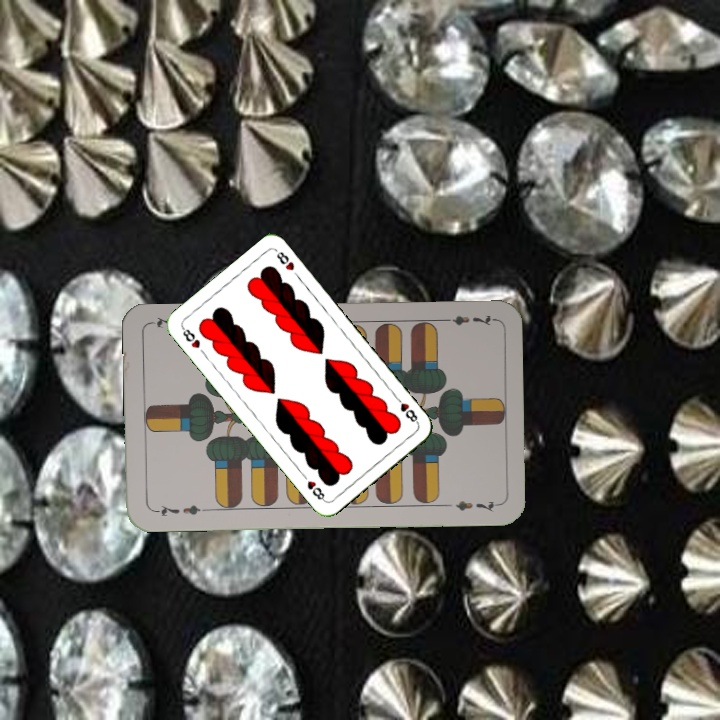E7: (150, 500, 209, 519), (437, 311, 496, 329)
H8: (391, 392, 421, 426), (178, 323, 203, 351)
